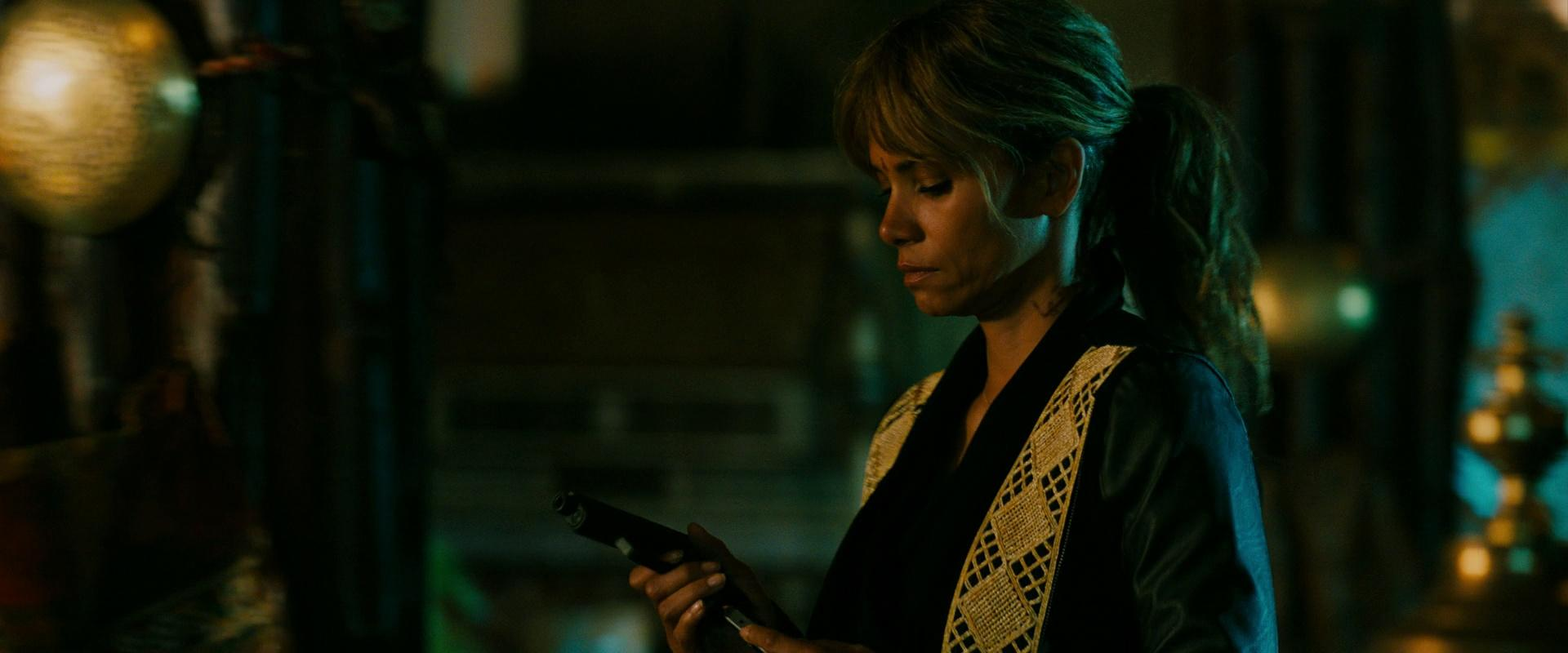gun: (560, 486, 763, 642)
